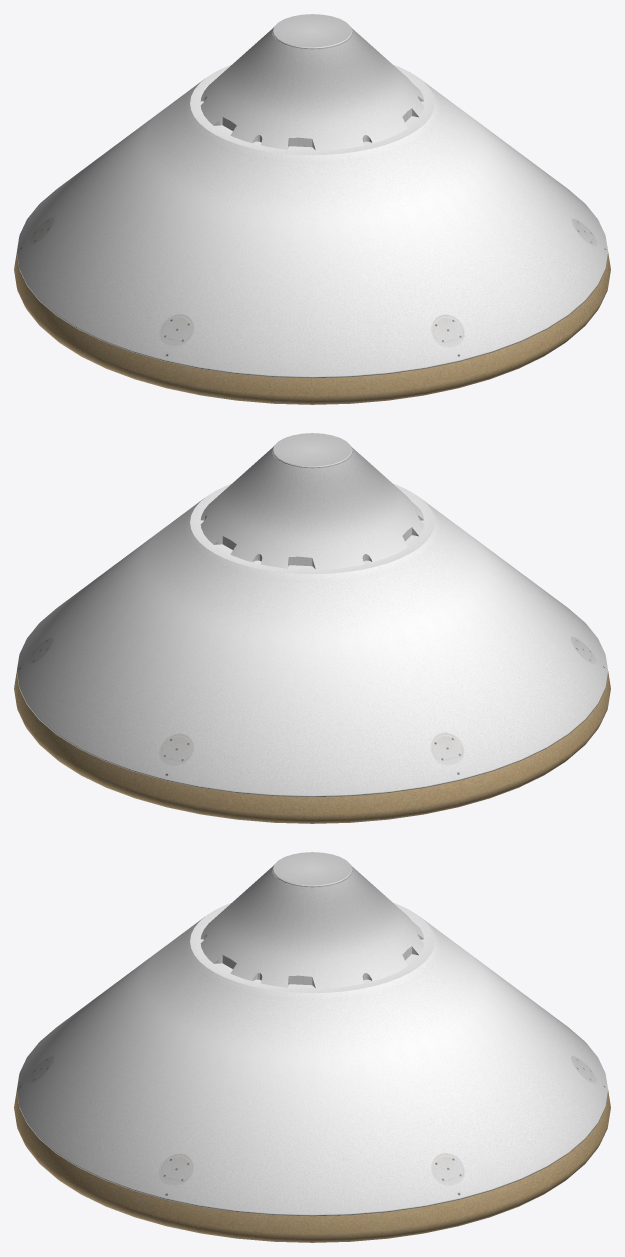
Rendered from phoenix_edl.glb.
3 renders of one model, top to bottom at view 1: azimuth 30°, elevation 25°; view 2: azimuth 150°, elevation 25°; view 3: azimuth 270°, elevation 25°, orthographic.
Visible parts, largest first — view 1: back_shell, center_, heat_shield; view 2: back_shell, center_, heat_shield; view 3: back_shell, center_, heat_shield.
Part boxes in pixels (x1=…): back_shell: x1=17, y1=64, x2=607, y2=378; center_: x1=200, y1=14, x2=424, y2=150; heat_shield: x1=14, y1=252, x2=610, y2=404; back_shell: x1=17, y1=483, x2=607, y2=797; center_: x1=200, y1=433, x2=424, y2=569; heat_shield: x1=14, y1=671, x2=610, y2=823; back_shell: x1=17, y1=902, x2=607, y2=1216; center_: x1=200, y1=852, x2=424, y2=988; heat_shield: x1=14, y1=1090, x2=610, y2=1242.
Bounding box in the file's own units: 2.63 × 1.66 × 2.63.
Materials: 5 (4 with a texture image).
